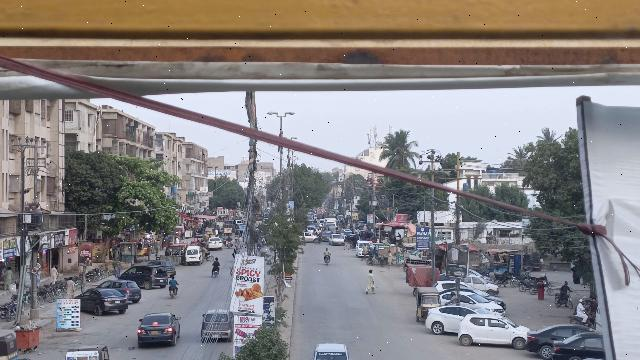Bike: (568, 311, 595, 326), (553, 292, 575, 309), (167, 286, 180, 300), (212, 266, 220, 280), (323, 254, 332, 266)
Car: (459, 313, 530, 351), (525, 320, 594, 358), (425, 303, 485, 335), (136, 311, 182, 349), (441, 290, 506, 315), (73, 288, 129, 315), (551, 331, 602, 360), (200, 307, 233, 344), (119, 265, 169, 289), (99, 280, 142, 304), (310, 342, 351, 360)
Person: (364, 267, 377, 296), (575, 298, 588, 323), (64, 274, 76, 301), (557, 278, 571, 300), (167, 275, 179, 287), (212, 256, 221, 269), (322, 245, 332, 256)
Rickshaw: (413, 285, 439, 323), (63, 343, 110, 360)
Van: (184, 246, 203, 267)
